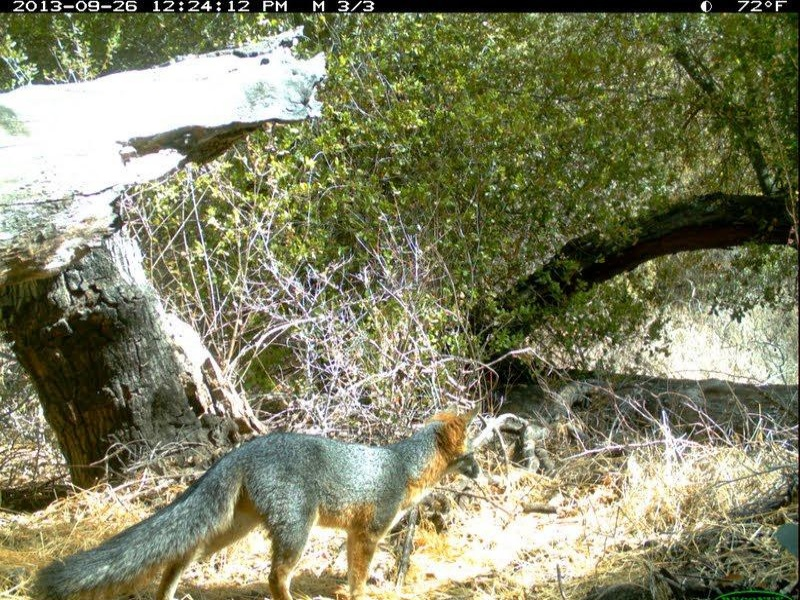coyote: (31, 398, 484, 597)
